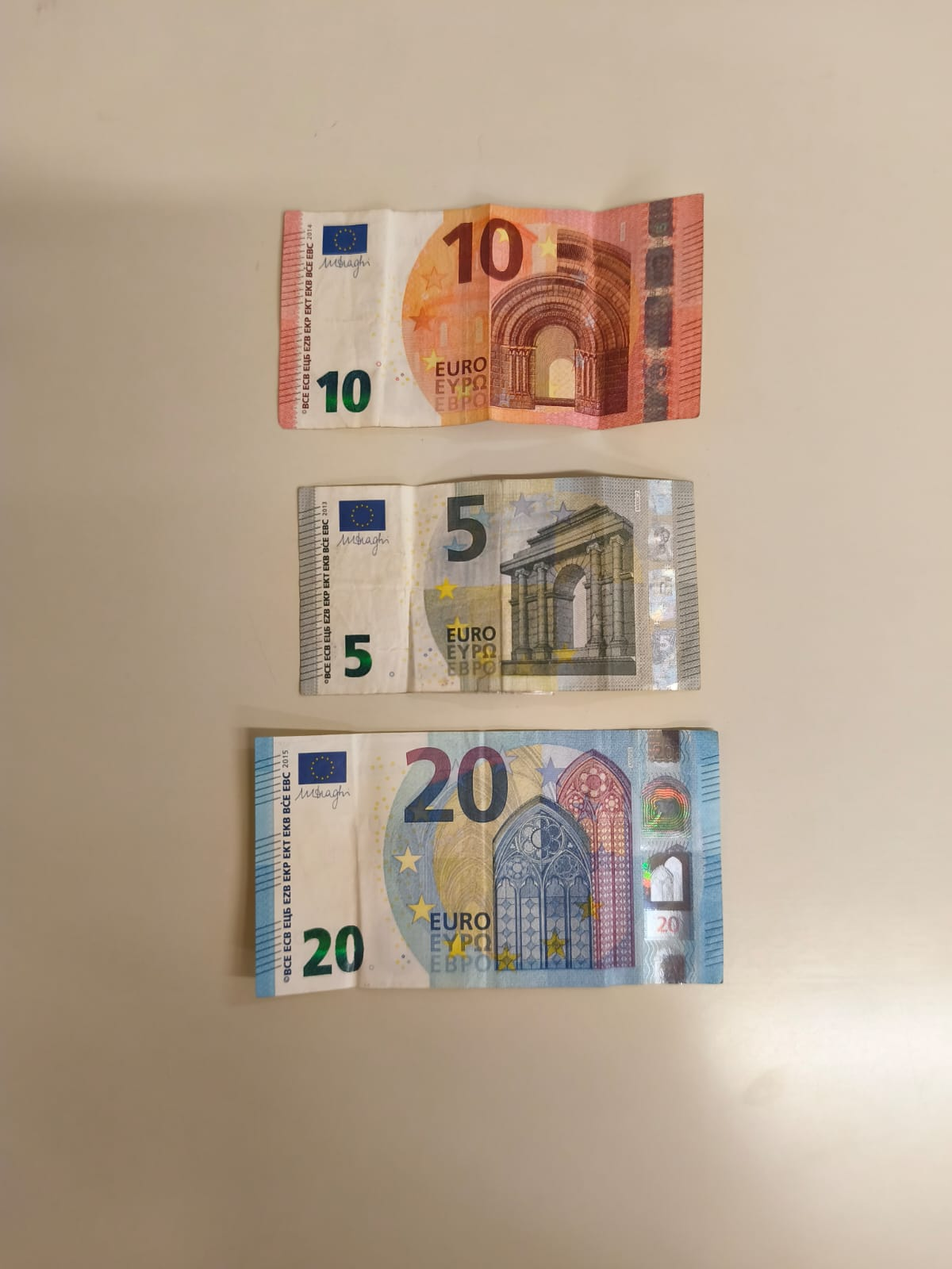Nota de 10€: (270, 188, 717, 436)
Nota de 20€: (243, 721, 739, 1007)
Nota de 5€: (285, 472, 715, 704)
